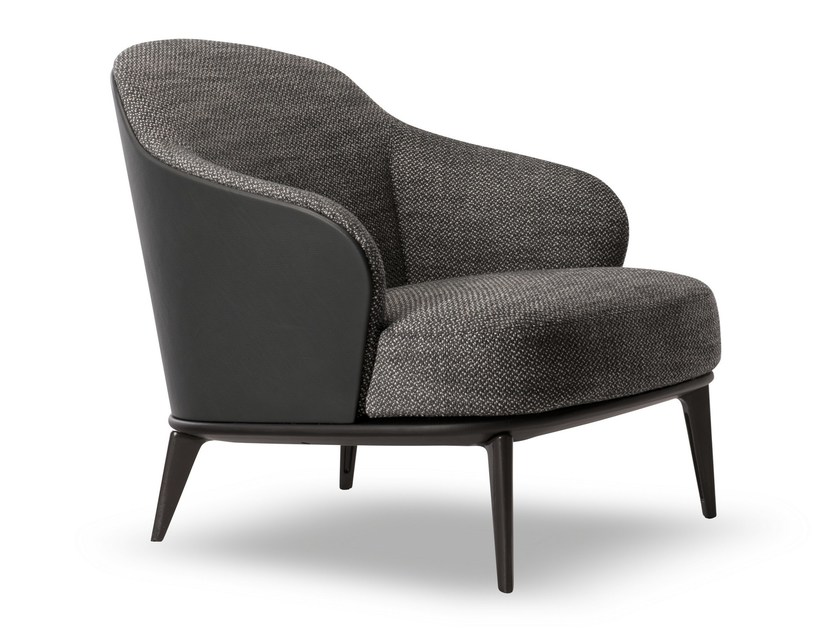chairs: (106, 27, 743, 594)
